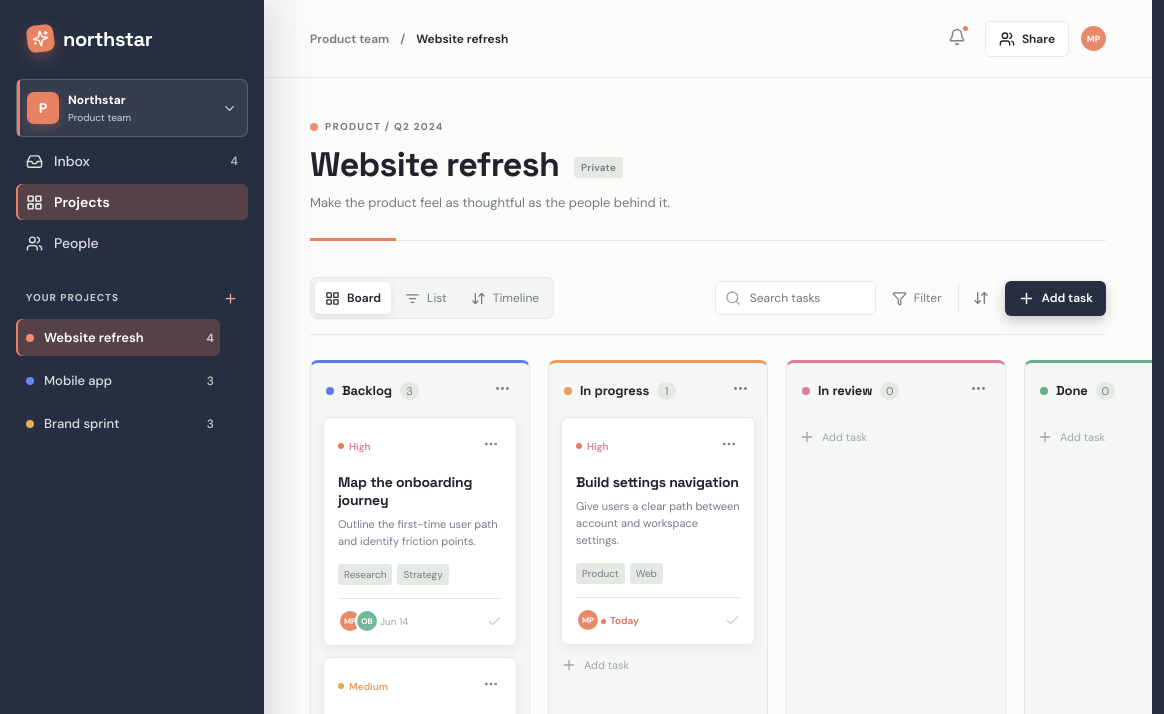
Test: Task creation (Add task modal) › deletes a task through its card options menu
This screenshot has width=1164, height=714.
Click the button named "Options for Map the onboarding journey".
click(491, 446)  # box [480,433,502,459]
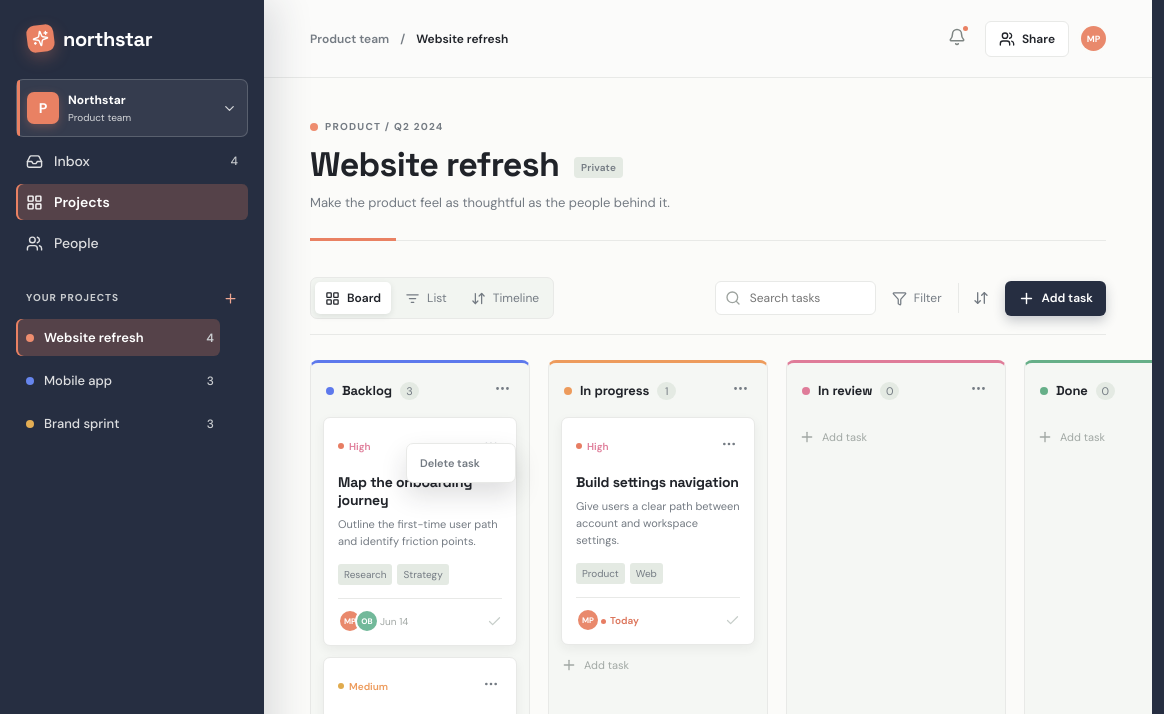
Click the button "Delete task".
click(461, 463)  # box [412,449,510,477]
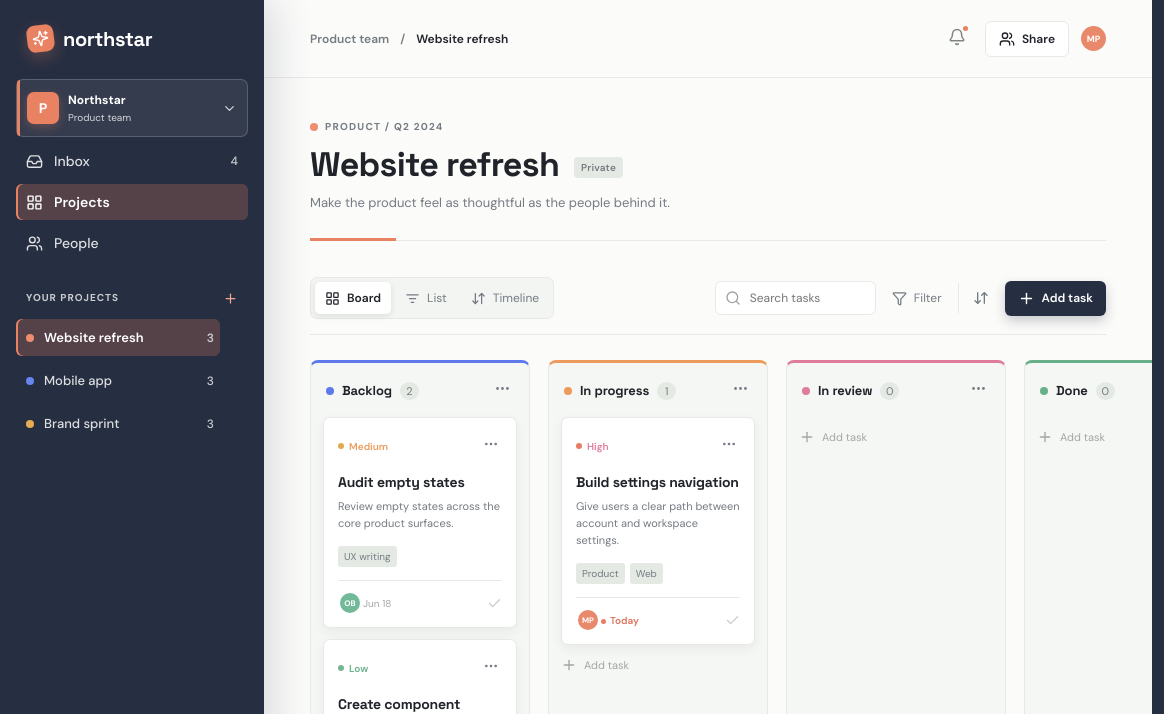
Check: the heading "Map the onboarding journey" is gone
